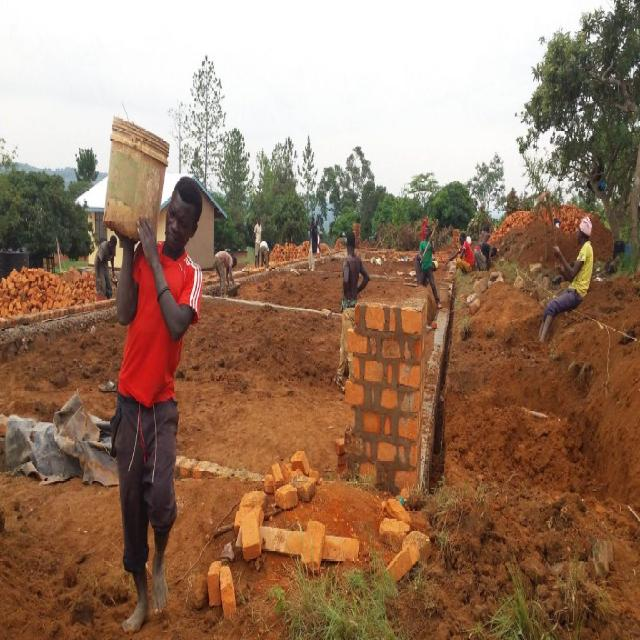no_boots: (120, 585, 150, 633), (148, 556, 170, 611), (334, 369, 350, 394)
no_gloves: (139, 224, 162, 261), (552, 243, 564, 260)
no_hardhat: (158, 171, 198, 268), (578, 215, 593, 242), (343, 235, 356, 259), (109, 230, 120, 251), (422, 218, 432, 240)
no_vest: (116, 246, 196, 404), (570, 241, 596, 304), (344, 252, 362, 302), (417, 240, 434, 276), (216, 247, 236, 272), (97, 241, 117, 265), (461, 238, 474, 266), (260, 240, 268, 256)
person: (100, 162, 205, 617), (540, 204, 596, 319), (341, 232, 367, 379), (414, 216, 444, 316), (214, 238, 241, 304), (94, 234, 116, 297), (456, 234, 477, 278), (310, 208, 320, 280), (254, 214, 262, 271), (258, 240, 268, 272)
